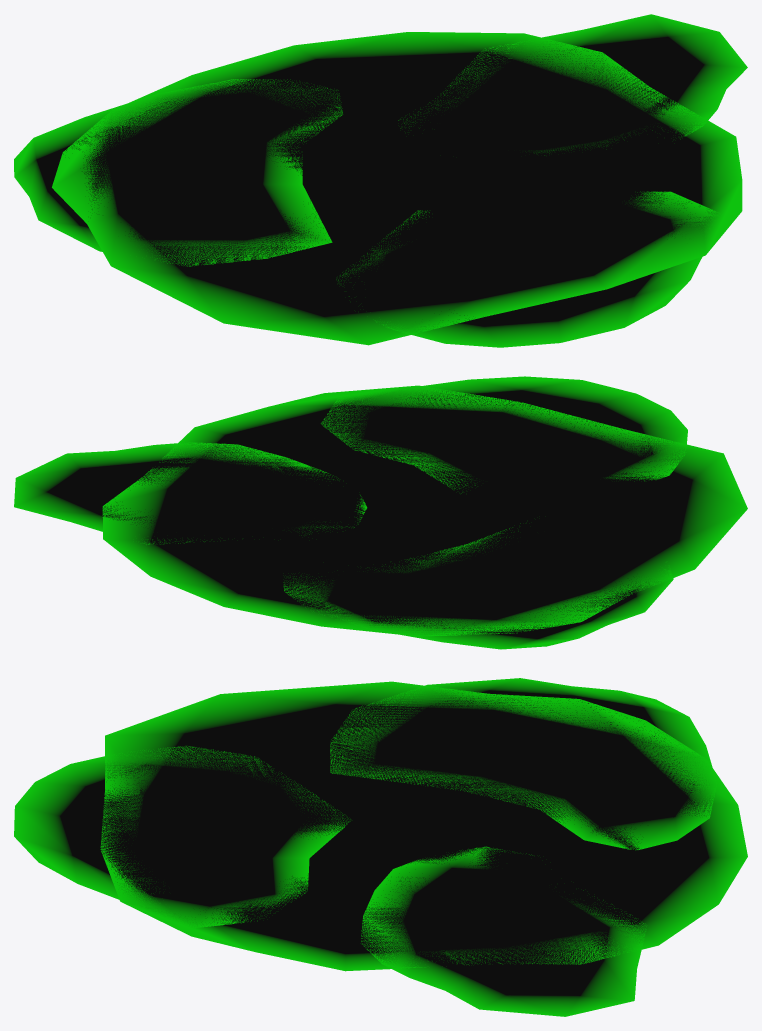
File: Puddles.fbx
3 renders of one model, top to bottom at view 1: azimuth 30°, elevation 25°; view 2: azimuth 150°, elevation 25°; view 3: azimuth 270°, elevation 25°, orthographic. The views are drawn at different scales.
Visible parts, largest first — view 1: Puddle_A, Puddle_B; view 2: Puddle_A, Puddle_B; view 3: Puddle_A, Puddle_B.
Part boxes in pixels (box(x1,y1,x2,y2)): Puddle_A: box(52, 32, 742, 345); Puddle_B: box(14, 14, 747, 347); Puddle_A: box(102, 385, 747, 636); Puddle_B: box(14, 376, 687, 649); Puddle_A: box(100, 681, 747, 971); Puddle_B: box(14, 678, 716, 1016).
Size of the model in its own units: 3.67 by 0 by 3.36.
